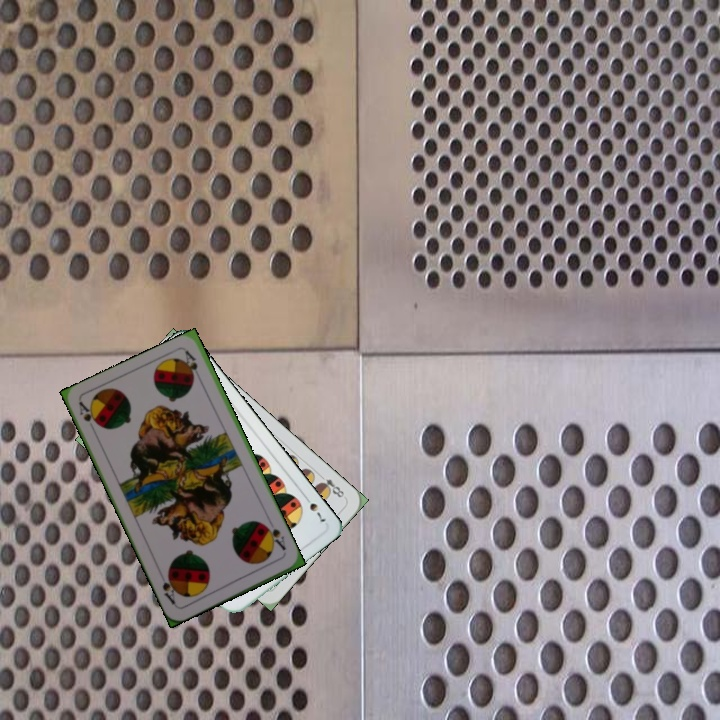E8: (315, 470, 348, 501)
S7: (300, 491, 328, 526)
SA: (75, 398, 102, 436), (260, 520, 289, 553)
